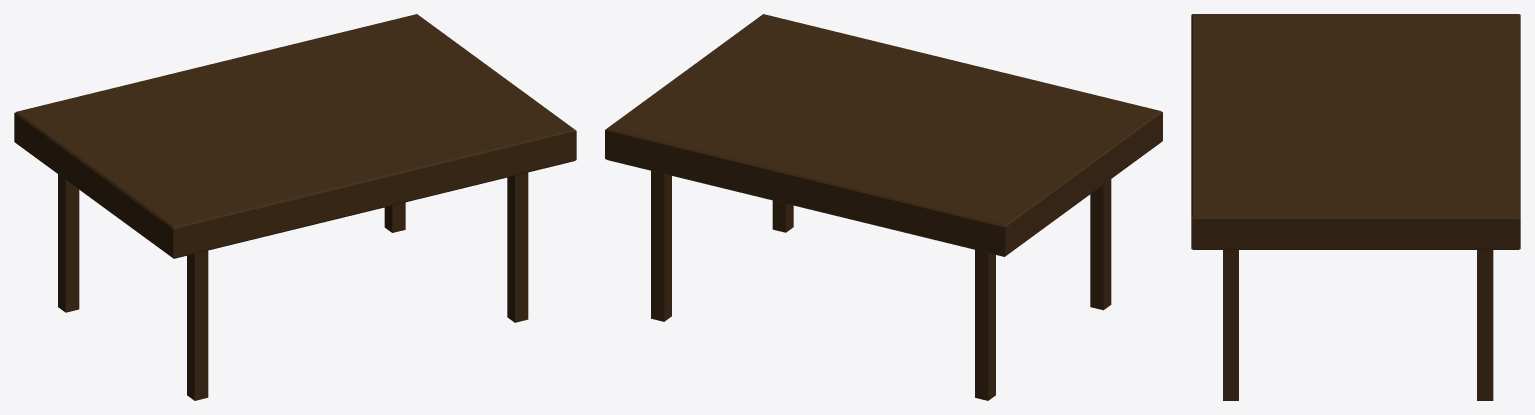
File: table.fbx
3 renders of one model, left to right at view 1: azimuth 30°, elevation 25°; view 2: azimuth 150°, elevation 25°; view 3: azimuth 270°, elevation 25°, orthographic. The views are drawn at different scales.
Visible parts, largest first — view 1: table1; view 2: table1; view 3: table1.
Part boxes in pixels (x1,y1,x2,y2): table1: [14, 14, 576, 400]; table1: [605, 14, 1162, 400]; table1: [1191, 14, 1520, 400].
Bounding box in the file's own units: 13.1 × 6 × 8.94.
